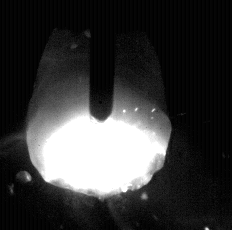arame: (90, 0, 116, 122)
poca: (26, 0, 171, 230)
